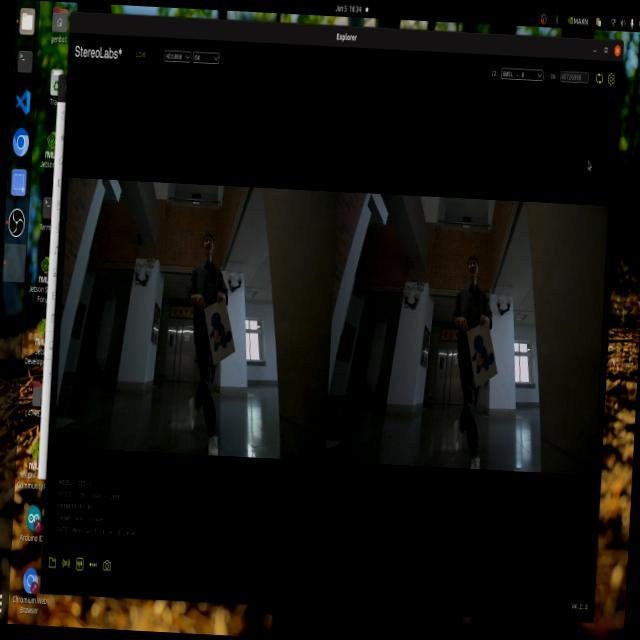blue: (207, 302, 241, 356), (470, 328, 498, 378)
